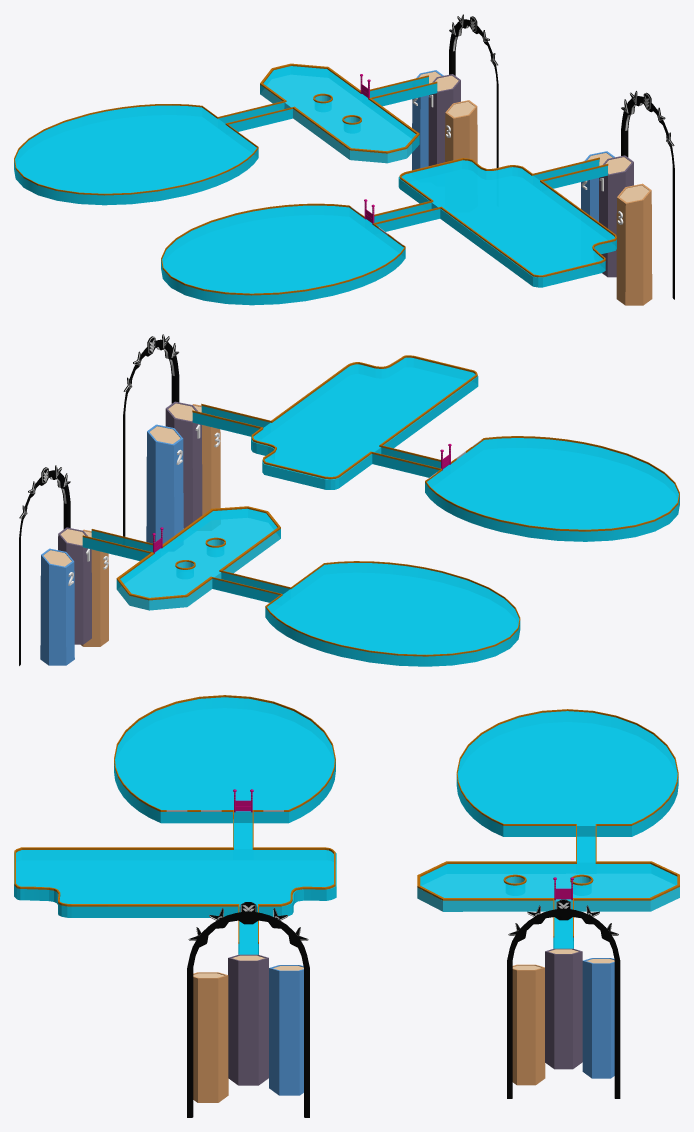
File: Level 1,2.fbx
The picture shows the model from 3 angles, top to bottom: view 1: azimuth 30°, elevation 25°; view 2: azimuth 150°, elevation 25°; view 3: azimuth 270°, elevation 25°; orthographic projection. The views are drawn at different scales.
Parts seen in each view (by area): view 1: Level_02, Level_01, base_5, finish_ponit1, base_1, finish_ponit, glass2 (×2), border_4, Border2, Canal1, Canal3, Canal2 (+1 smaller); view 2: Level_02, Level_01, base_5, finish_ponit1, finish_ponit, base_1, glass2 (×2), border_4, Border2, Canal1, Canal3, Canal2 (+1 smaller); view 3: Level_02, Level_01, base_5, finish_ponit1, finish_ponit, base_1, glass2 (×2), border_4, Border2, Canal3.
Boxes of the visible parts, left/top/right/bottom form: Level_02: left=14, top=105, right=258, bottom=205; Level_01: left=161, top=205, right=405, bottom=305; base_5: left=398, top=160, right=616, bottom=287; finish_ponit1: left=581, top=91, right=674, bottom=305; base_1: left=260, top=66, right=419, bottom=163; finish_ponit: left=412, top=14, right=498, bottom=170; glass2 (×2): left=14, top=104, right=405, bottom=295; border_4: left=399, top=158, right=616, bottom=277; Border2: left=260, top=63, right=419, bottom=153; Canal1: left=218, top=102, right=292, bottom=131; Canal3: left=533, top=159, right=607, bottom=188; Canal2: left=370, top=77, right=437, bottom=106; Level_02: left=265, top=563, right=520, bottom=666; Level_01: left=425, top=438, right=679, bottom=541; base_5: left=251, top=357, right=478, bottom=489; finish_ponit1: left=123, top=334, right=220, bottom=543; finish_ponit: left=19, top=465, right=108, bottom=665; base_1: left=116, top=508, right=280, bottom=610; glass2 (×2): left=265, top=436, right=679, bottom=656; border_4: left=251, top=355, right=477, bottom=479; Border2: left=116, top=506, right=280, bottom=600; Canal1: left=212, top=572, right=289, bottom=602; Canal3: left=192, top=406, right=269, bottom=436; Canal2: left=82, top=530, right=152, bottom=560; Level_02: left=456, top=711, right=678, bottom=836; Level_01: left=114, top=697, right=335, bottom=823; base_5: left=14, top=849, right=336, bottom=917; finish_ponit1: left=187, top=902, right=309, bottom=1117; finish_ponit: left=507, top=899, right=620, bottom=1098; base_1: left=417, top=862, right=679, bottom=911; glass2 (×2): left=114, top=695, right=678, bottom=825; border_4: left=14, top=847, right=335, bottom=906; Border2: left=417, top=861, right=679, bottom=900; Canal3: left=238, top=921, right=258, bottom=954.
Size of the model in its own units: 119 by 43.33 by 122.
Materials: 10 (2 with a texture image).
